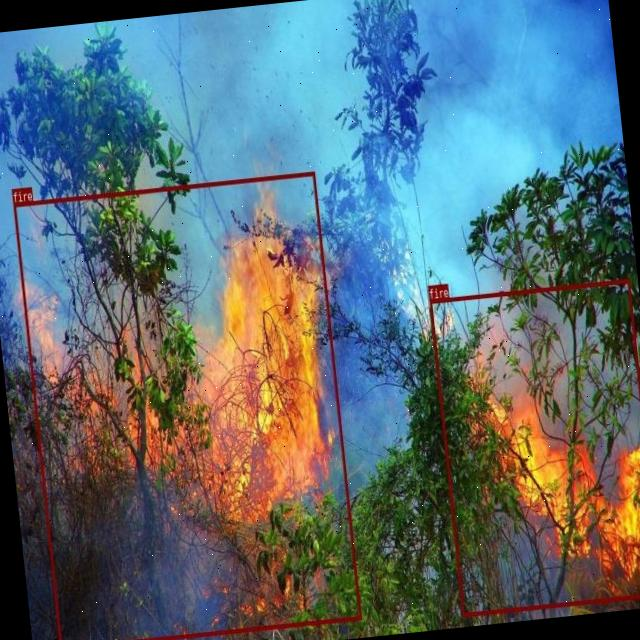fire: (13, 170, 361, 640), (428, 277, 640, 615)
